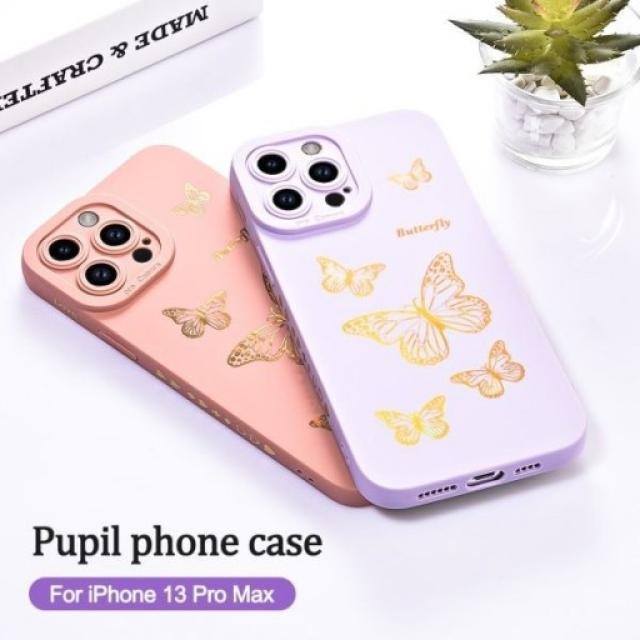phone: (231, 109, 592, 498), (21, 136, 356, 507)
